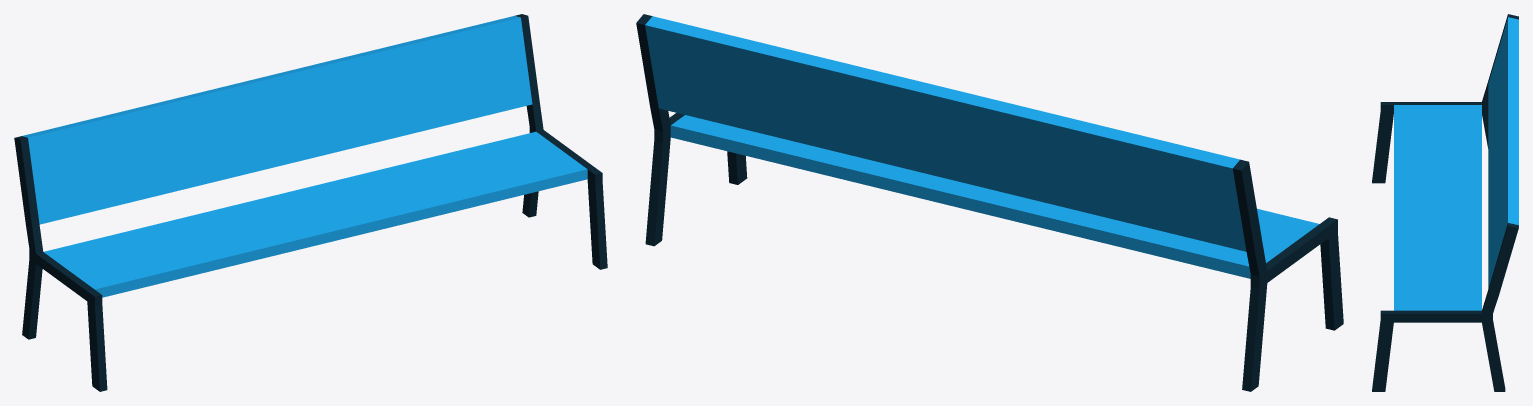
The model's file is Bench.FBX.
3 views of the same model, side by side, from view 1: azimuth 30°, elevation 25°; view 2: azimuth 150°, elevation 25°; view 3: azimuth 270°, elevation 25° (orthographic). The views are drawn at different scales.
Visible parts, largest first — view 1: Object005; view 2: Object005; view 3: Object005.
Part boxes in pixels (bbox=[...]): Object005: bbox=[14, 14, 607, 391]; Object005: bbox=[636, 14, 1343, 391]; Object005: bbox=[1372, 14, 1518, 391].
Bounding box in the file's own units: 33.57 × 12.27 × 9.82.
